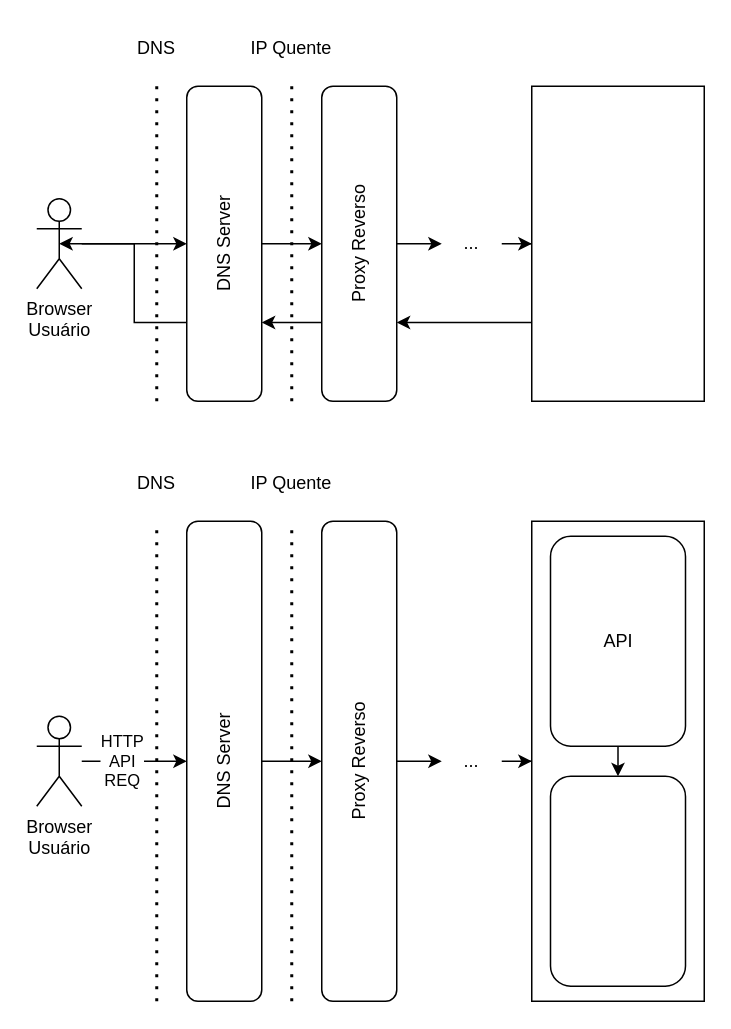
Some shapes in this 731 by 1029 pixel diagram are drawn without their labels. Each missing label, with the centre of its shape:
DB: (x=617, y=880)
Storage Front Stático: (x=617, y=243)
